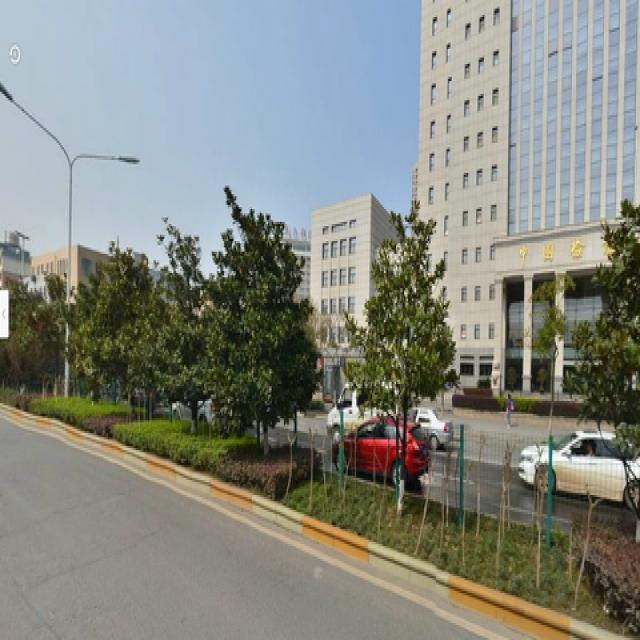magn: (373, 224, 432, 501), (228, 213, 276, 450), (154, 239, 210, 429)
